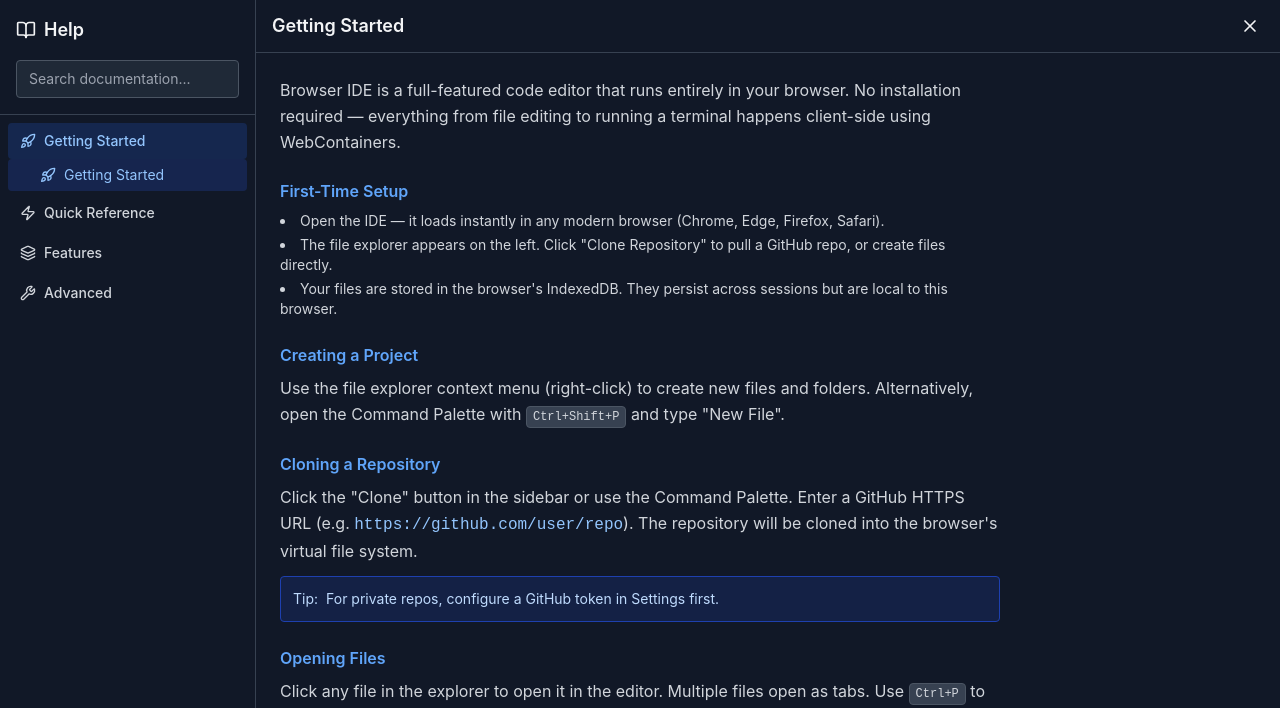
Test: HelpPanel - Content Sections › renders AI Assistant content with tool descriptions
Click the button "Features" at (128, 253), box x1=8 y1=235 x2=247 y2=271
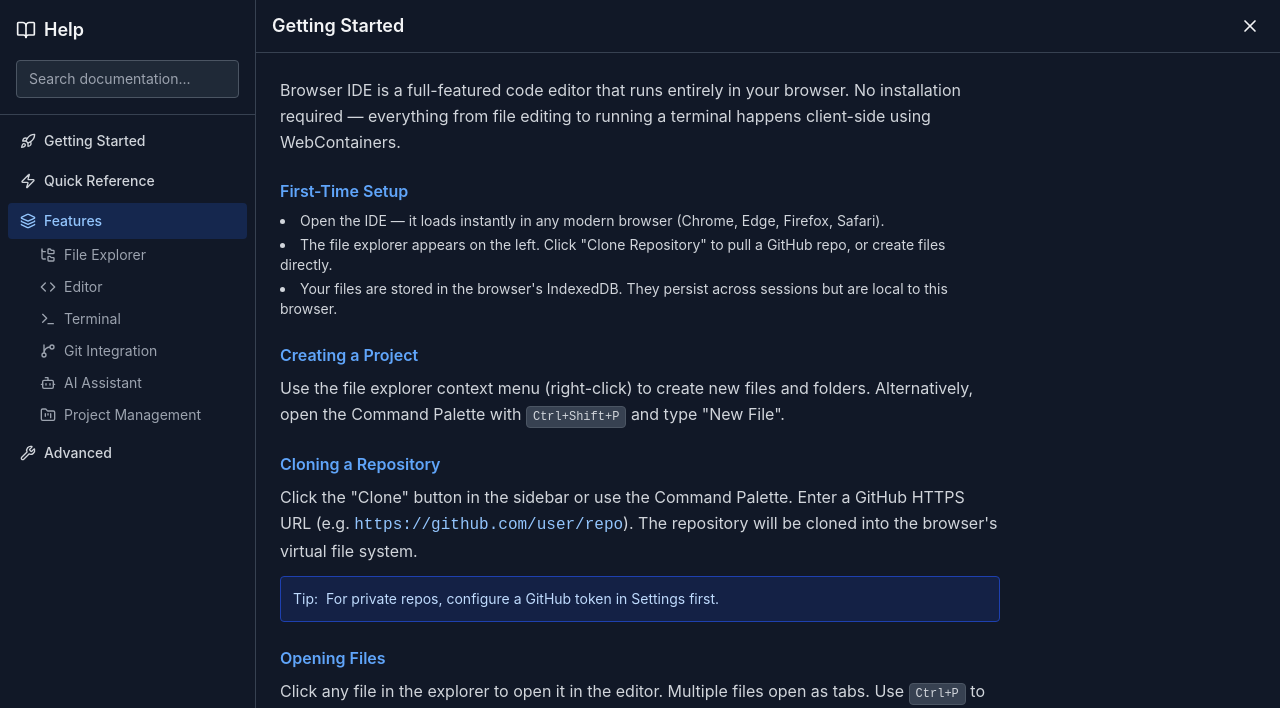
Click the button "AI Assistant" at (128, 383), box x1=8 y1=367 x2=247 y2=399
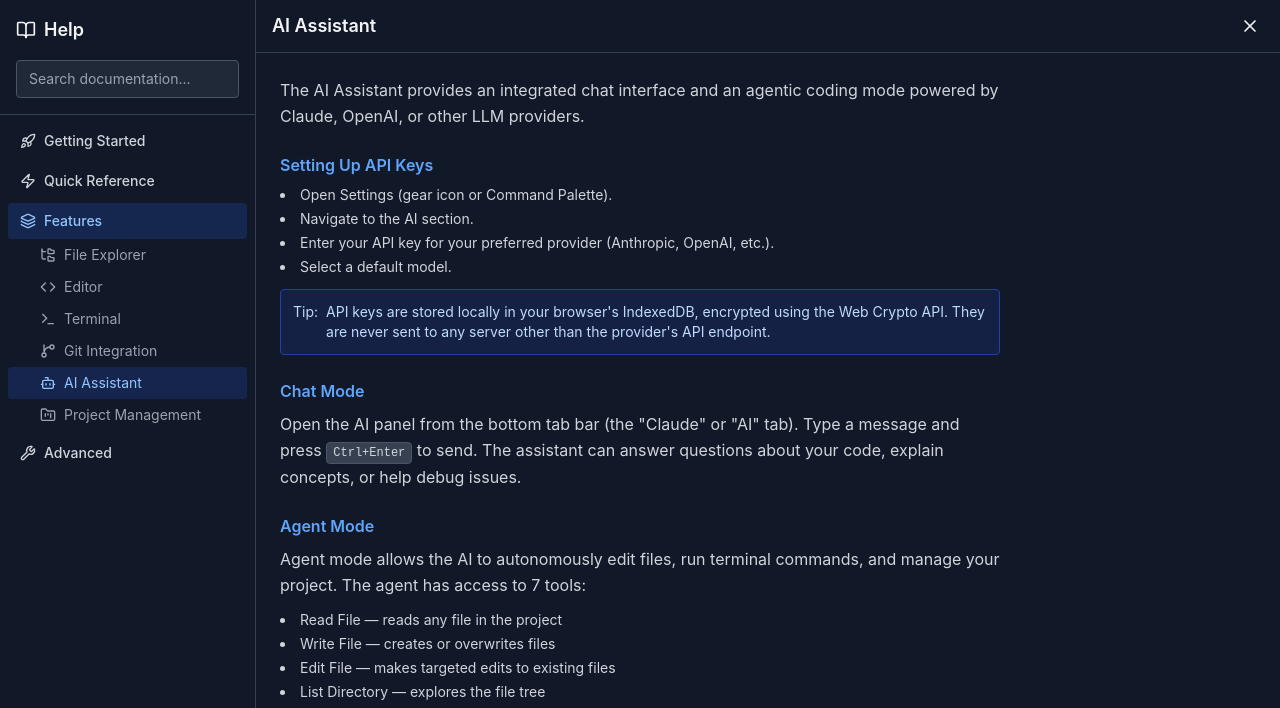
Expected: the heading "Setting Up API Keys" is shown, x1=280 y1=155 x2=433 y2=175
Expected: the heading "Agent Mode" is shown, x1=280 y1=516 x2=374 y2=536
Expected: the list item "Read File — reads any file in the project" is shown, x1=300 y1=611 x2=562 y2=628
